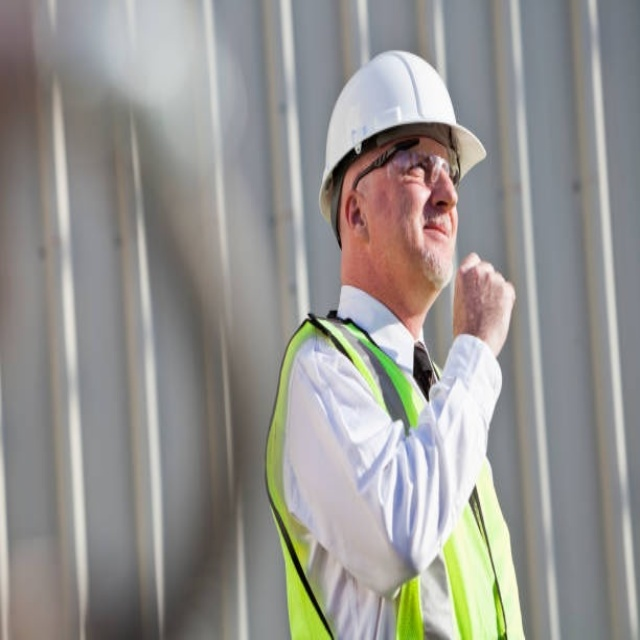Gafas: (349, 135, 458, 198)
Sin_guantes: (453, 248, 522, 340)
Sin_mascara: (409, 212, 455, 265)
